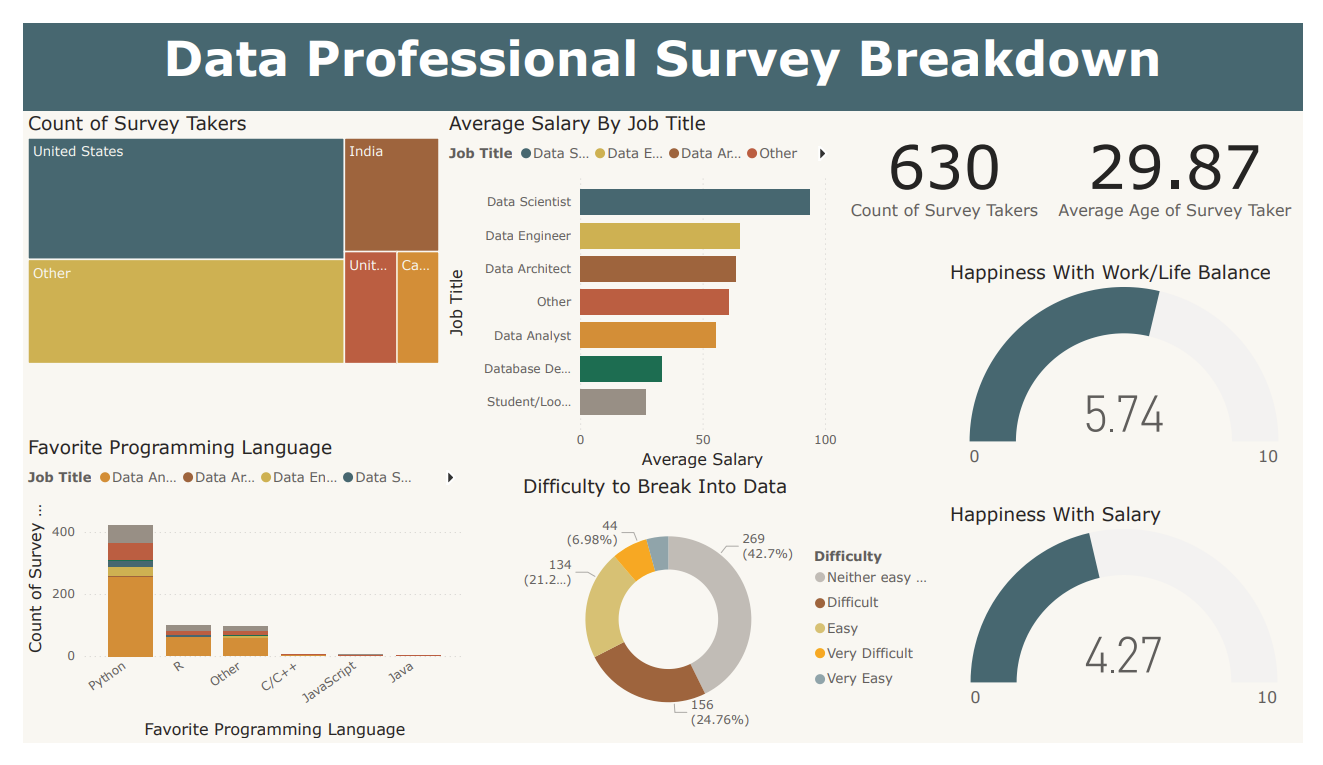

The page's visual inventory and layout, read from the dashboard file:
{"tool":"powerbi","page":{"name":"Page 1","canvas":[1280,720],"ordinal":0},"visuals":[{"type":"textbox","box":[0,0,1280.3,87.8],"z":0},{"type":"card","fields":{"Values":["Count(Data Professional Survey.Unique ID)"]},"box":[819.2,87.8,204.5,123.5],"z":1000},{"type":"card","fields":{"Values":["Avg(Data Professional Survey.Q10 - Current Age)"]},"box":[1023.7,87.8,256.6,123.5],"z":2000},{"type":"barChart","title":"Average Salary By Job Title","fields":{"Category":["Data Professional Survey.Q1 - Which Title Best Fits your Current Role?.1"],"Y":["Avg(Data Professional Survey.Average Salary)"],"Series":["Data Professional Survey.Q1 - Which Title Best Fits your Current Role?.1"]},"box":[421.3,87.8,397.9,362.3],"z":3000},{"type":"columnChart","title":"Favorite Programming Language","fields":{"Category":["Data Professional Survey.Q5 - Favorite Programming Language.1"],"Y":["CountNonNull(Data Professional Survey.Unique ID)"],"Series":["Data Professional Survey.Q1 - Which Title Best Fits your Current Role?.1"]},"box":[0,411.7,447.3,308.7],"z":4000},{"type":"treemap","title":"Count of Survey Takers","fields":{"Group":["Data Professional Survey.Q11 - Which Country do you live in?.1"],"Values":["CountNonNull(Data Professional Survey.Q11 - Which Country do you live in?.1)"]},"box":[0,87.8,421.3,258],"z":5000},{"type":"gauge","title":"Happiness With Work/Life Balance","fields":{"Y":["Avg(Data Professional Survey.Q6 - How Happy are you in your Current Position with the following? (Work/Life Balance))"],"MinValue":["Min(Data Professional Survey.Q6 - How Happy are you in your Current Position with the following? (Work/Life Balance))1"],"MaxValue":["Max(Data Professional Survey.Q6 - How Happy are you in your Current Position with the following? (Work/Life Balance))2"]},"box":[922.1,237.4,358.1,215.4],"z":6000},{"type":"gauge","title":"Happiness With Salary","fields":{"Y":["Avg(Data Professional Survey.Q6 - How Happy are you in your Current Position with the following? (Salary))"],"MinValue":["Min(Data Professional Survey.Q6 - How Happy are you in your Current Position with the following? (Salary))1"],"MaxValue":["Max(Data Professional Survey.Q6 - How Happy are you in your Current Position with the following? (Salary))2"]},"box":[922.1,478.9,358.1,215.4],"z":7000},{"type":"donutChart","title":"Difficulty to Break Into Data","fields":{"Category":["Data Professional Survey.Q7 - How difficult was it for you to break into Data?"],"Y":["CountNonNull(Data Professional Survey.Q7 - How difficult was it for you to break into Data?)"]},"box":[495.4,451.5,426.8,269],"z":8000}]}

Visuals, with their boxes in screenshot pixels (x1, y1, x2, y2), scaled from the page's 1280x720 canvas onto the 1323x765 screenshot:
textbox: crop(0, 0, 1322, 93)
card - Count(Data Professional Survey.Unique ID): crop(847, 93, 1058, 225)
card - Avg(Data Professional Survey.Q10 - Current Age): crop(1058, 93, 1322, 225)
"Average Salary By Job Title" barChart: crop(435, 93, 847, 478)
"Favorite Programming Language" columnChart: crop(0, 437, 462, 764)
"Count of Survey Takers" treemap: crop(0, 93, 435, 367)
"Happiness With Work/Life Balance" gauge: crop(953, 252, 1322, 481)
"Happiness With Salary" gauge: crop(953, 509, 1322, 738)
"Difficulty to Break Into Data" donutChart: crop(512, 480, 953, 764)
